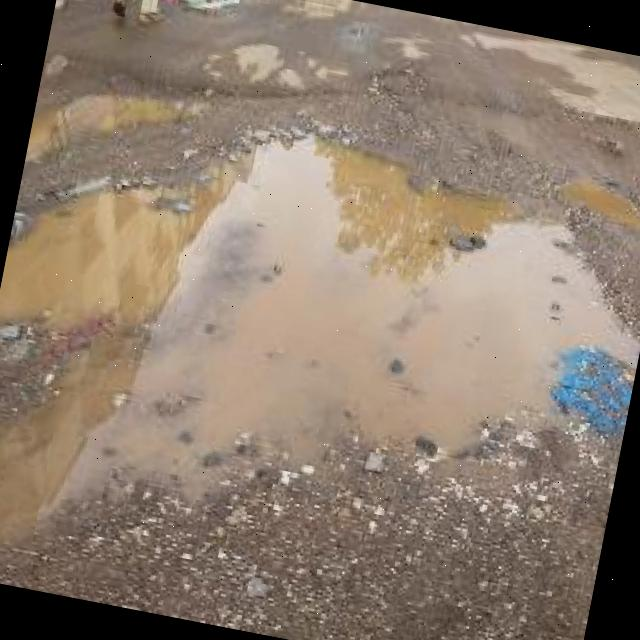waterlogging: (0, 43, 640, 591)
